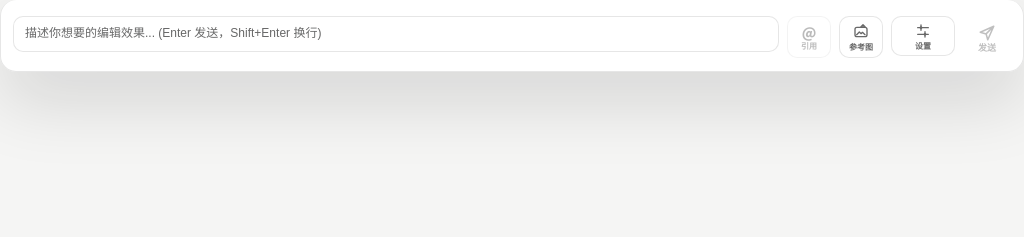
BottomInputBar focus isolation › keeps compact settings collapsed by default and still allows opening and closing them
The width and height of the screenshot is (1024, 237).
Click the button with test id "compact-settings-toggle" at [923, 36], box [891,16,955,56]
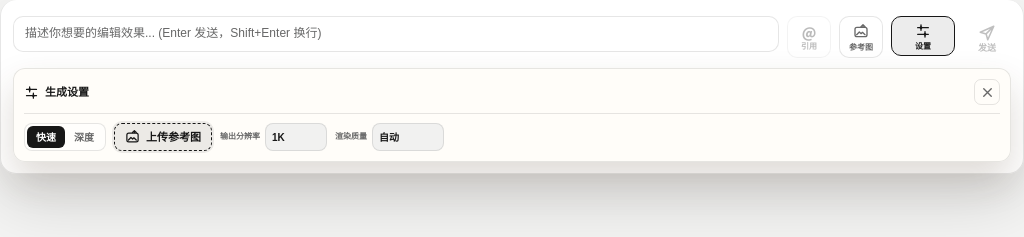
Check: the button with test id "compact-settings-toggle" is expanded, box [891,16,955,56]
Check: the button with test id "compact-settings-close" is shown
Click the button with test id "compact-settings-close" at [987, 92], box [974,79,1000,105]
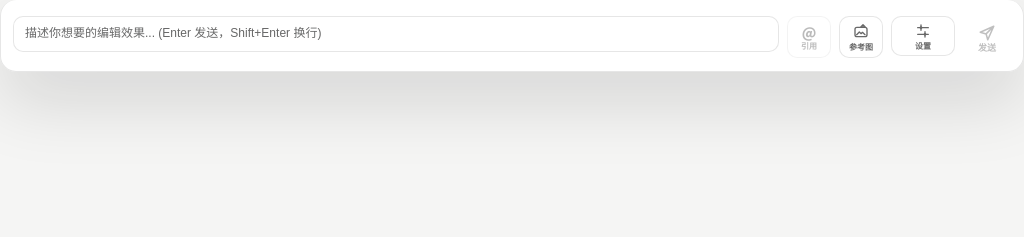
Check: the button with test id "compact-settings-toggle" is collapsed, box [891,16,955,56]
